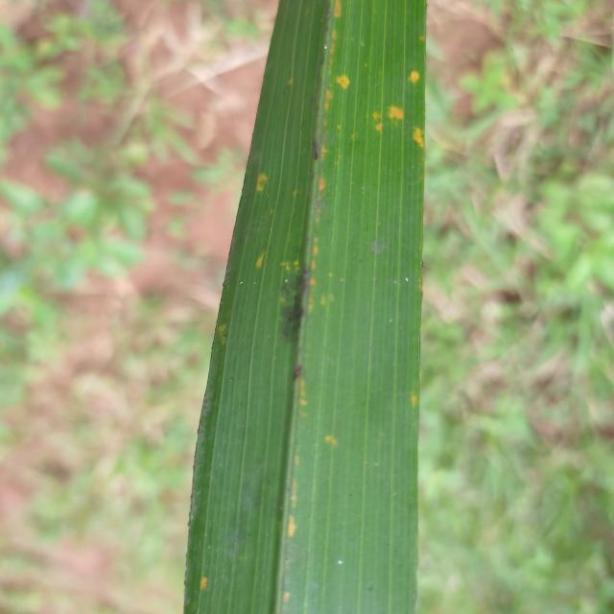Kalium: (182, 0, 430, 614)
